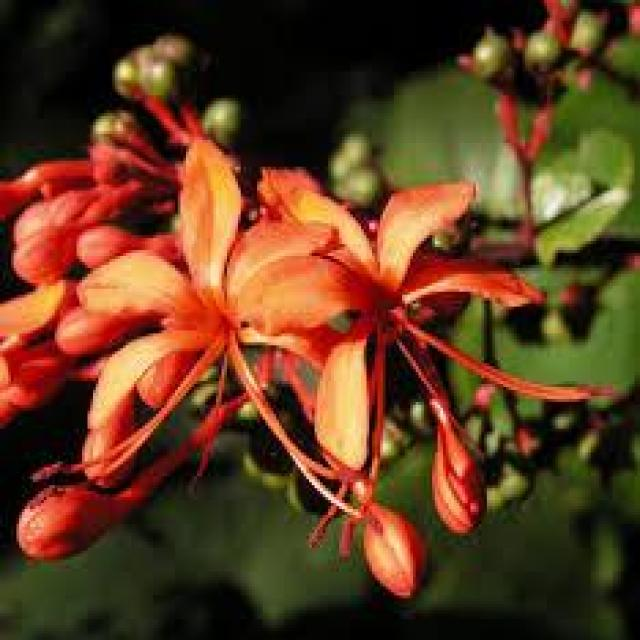organic waste: (70, 158, 526, 562)
